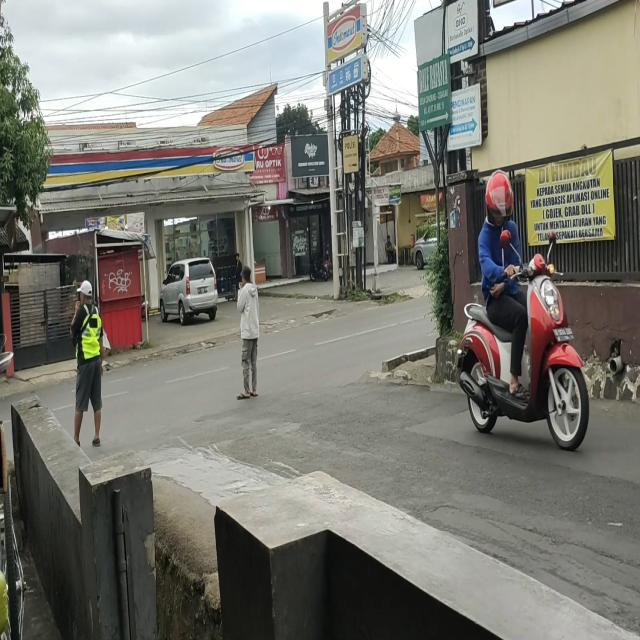helmet: (485, 172, 514, 226)
